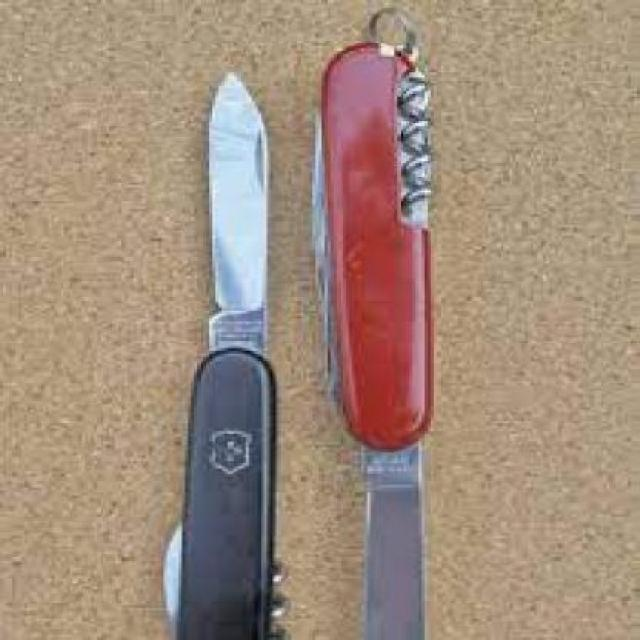-: (151, 72, 292, 351)
